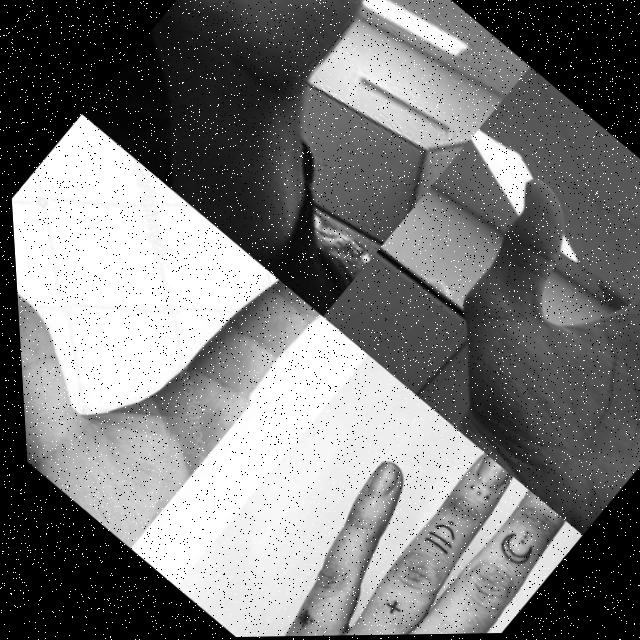hand: (6, 128, 329, 550), (360, 113, 640, 539), (215, 404, 579, 638), (154, 0, 420, 130)
